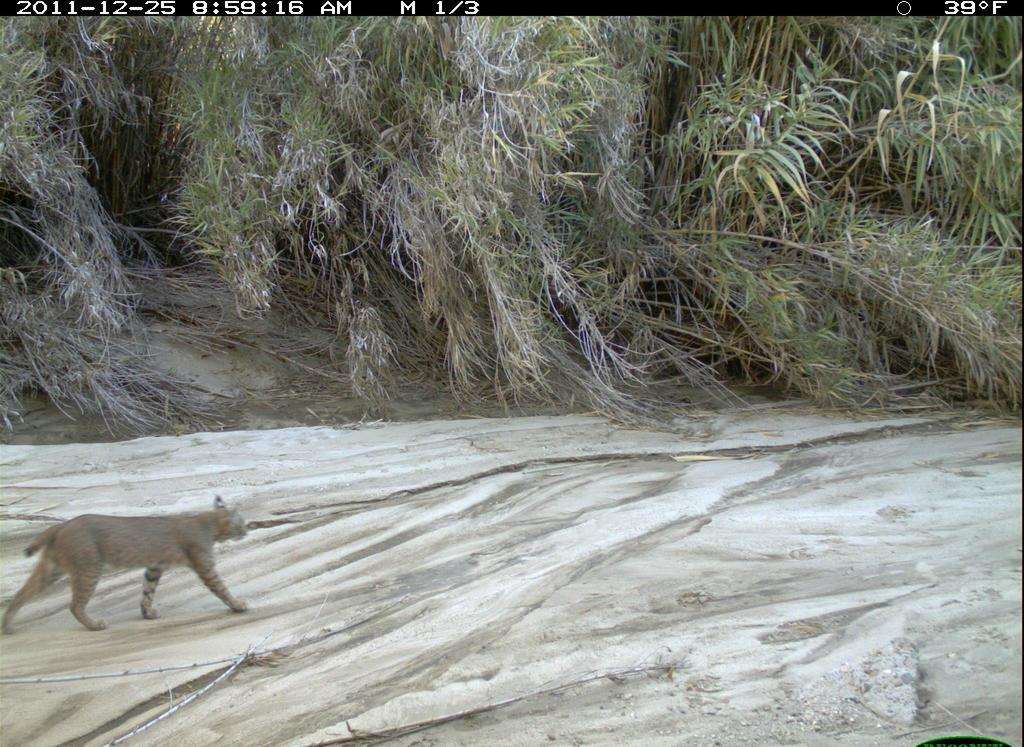bobcat: (4, 486, 268, 641)
